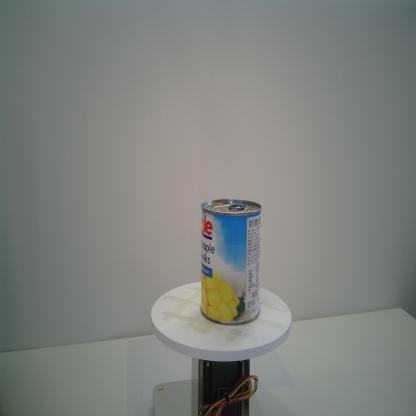Canned Food: (201, 198, 262, 327)
